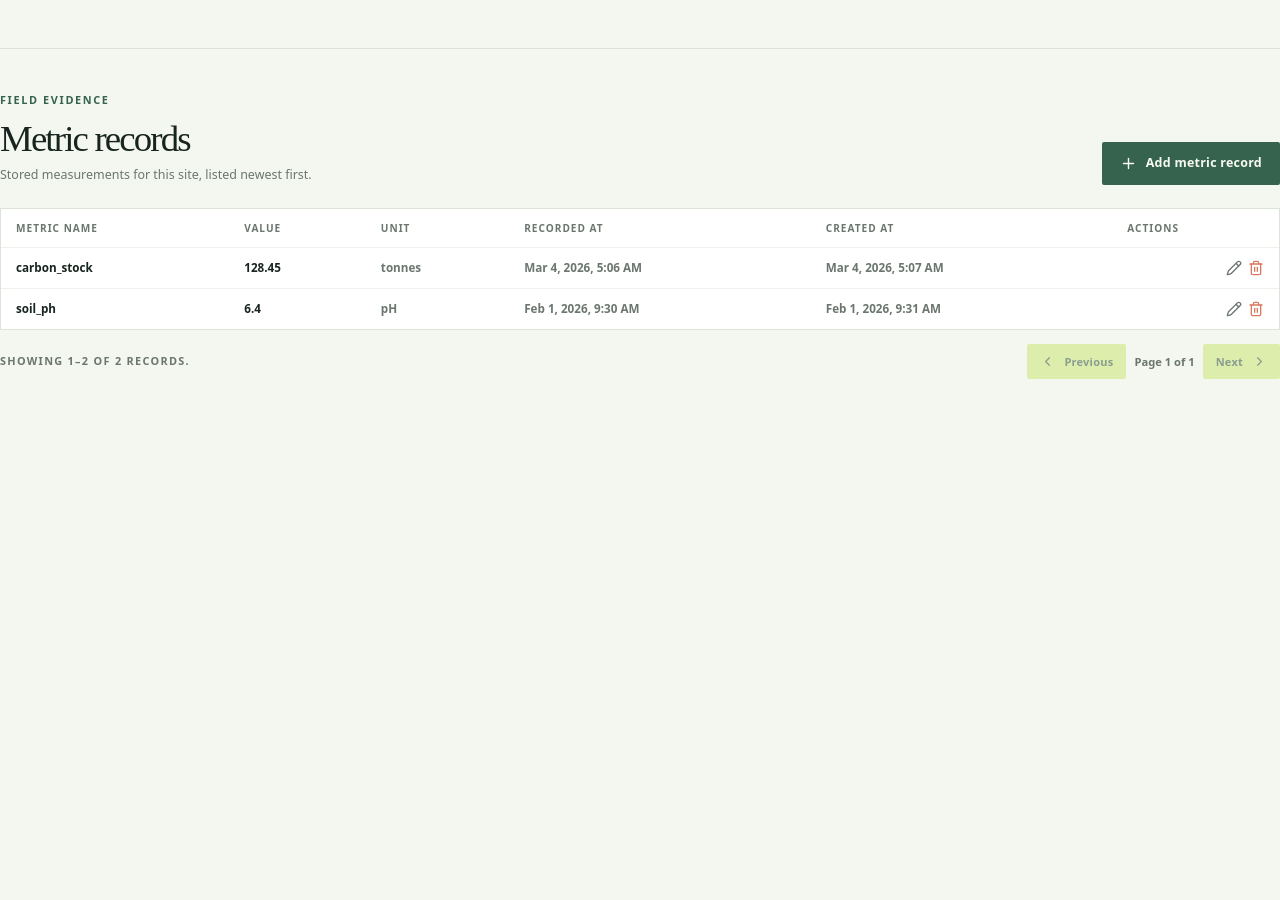
Test: SiteMetricRecords actions › asks for confirmation before deleting and identifies the record
Expected: the text "carbon_stock" is shown, [16,260,93,275]
Click the button named "Delete carbon_stock record" at (1256, 268), box [1248,260,1264,276]
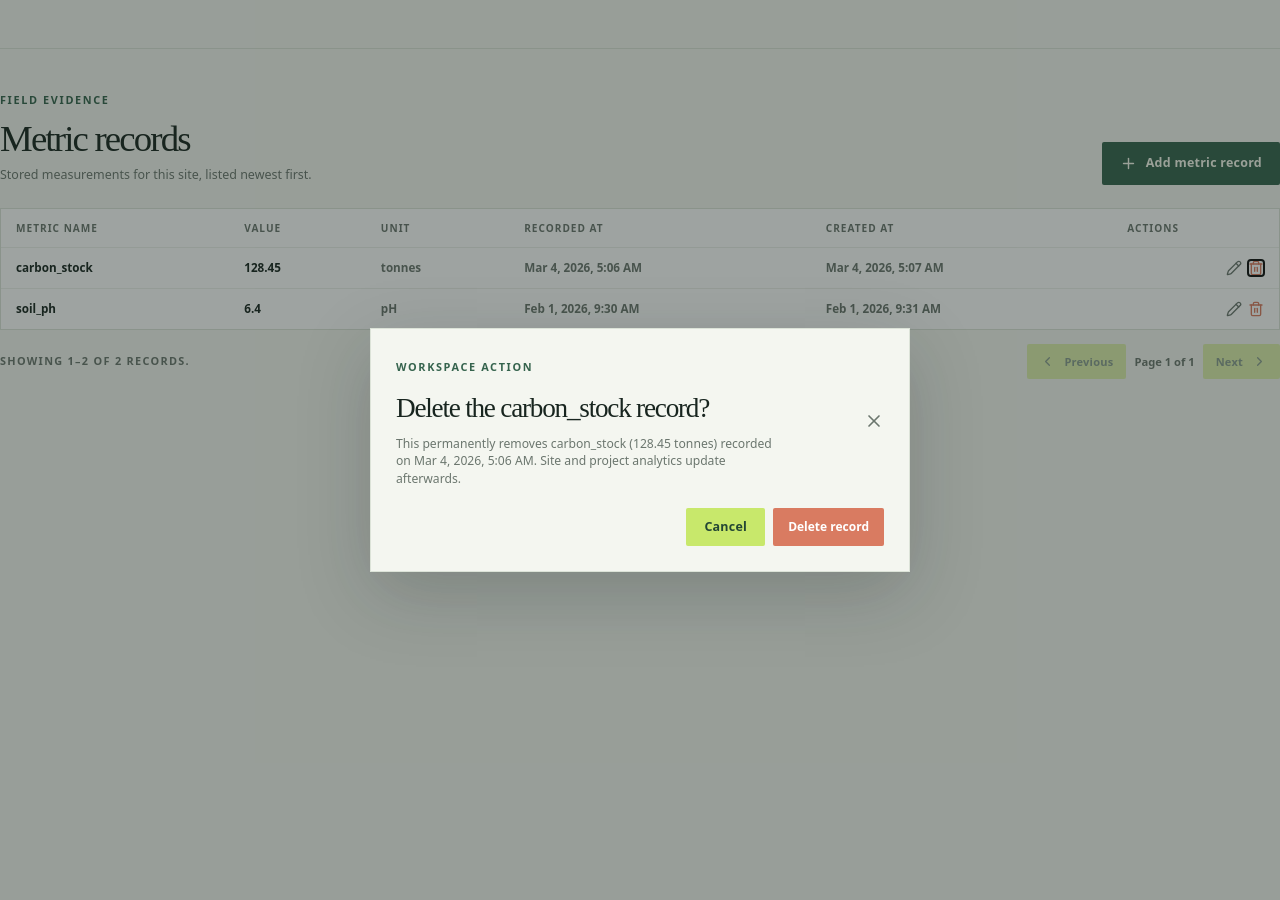
Result: the heading "Delete the carbon_stock record?" is shown at [396,393,709,423]
Result: the text "128.45 tonnes" is shown at [396,435,772,487]
